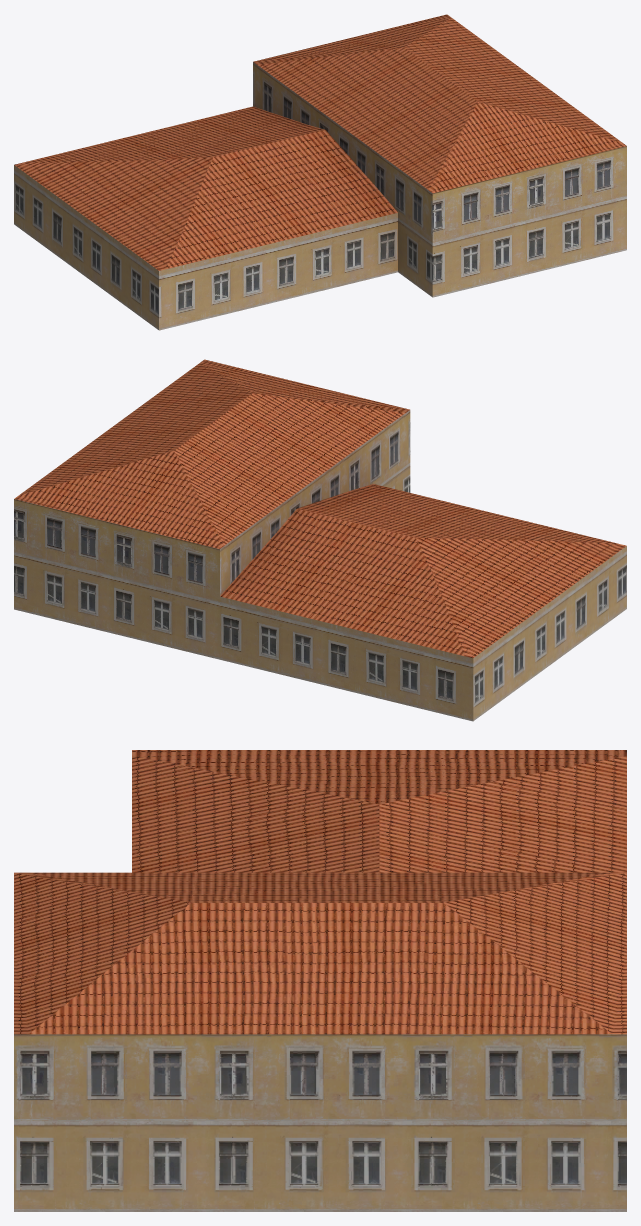
The model's file is Brick2.gltf.
3 views of the same model, one above another, from view 1: azimuth 30°, elevation 25°; view 2: azimuth 150°, elevation 25°; view 3: azimuth 270°, elevation 25° (orthographic). The views are drawn at different scales.
Parts seen in each view (by area): view 1: Brick2; view 2: Brick2; view 3: Brick2.
Boxes of the visible parts, x1,y1,x2,y2 form: Brick2: [14, 14, 626, 330]; Brick2: [14, 359, 626, 721]; Brick2: [14, 750, 626, 1211].
Size of the model in its own units: 30.43 by 9 by 21.87.
Materials: 1 (1 with a texture image).
